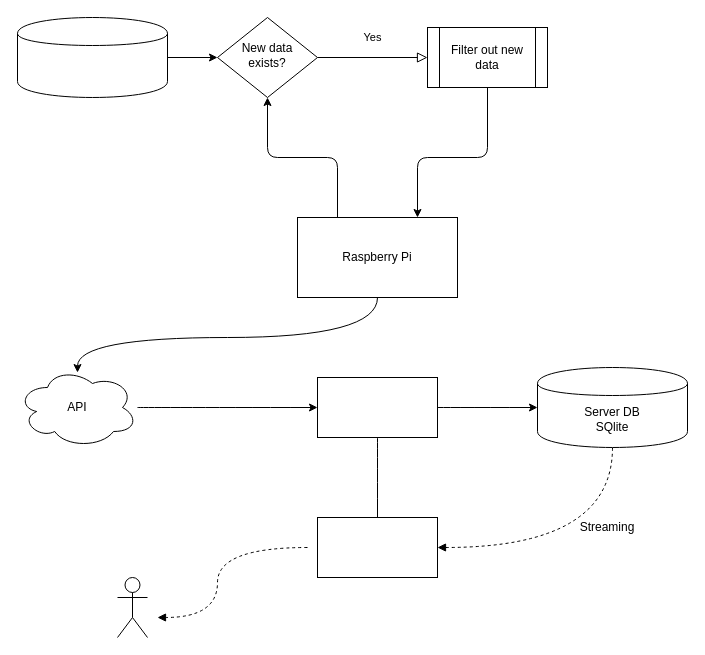
Image size: 705x655. Some labels were removed from this diagram. The box of each missing label's shape, as (x1, y1, x2, y2) in pixels:
Bokeh/Dash/Plotly website: (316, 516, 438, 578)
Server: (316, 376, 438, 438)
Weather DB Microsoft Access: (16, 16, 168, 98)
